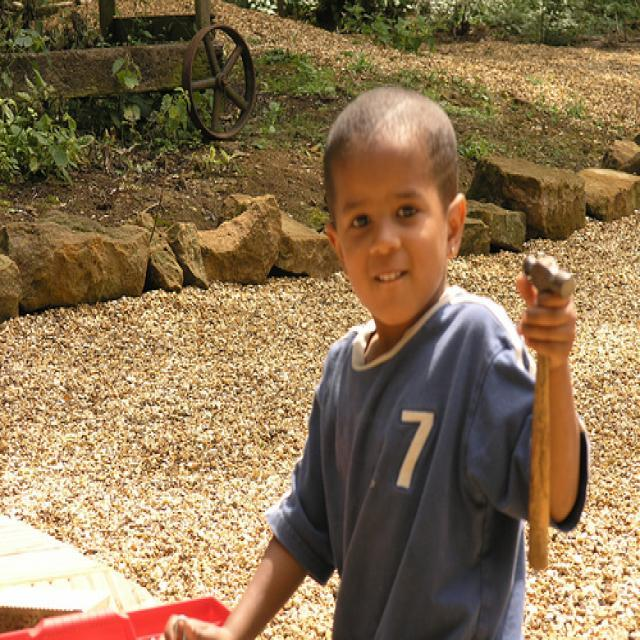hammer: (518, 244, 576, 576)
